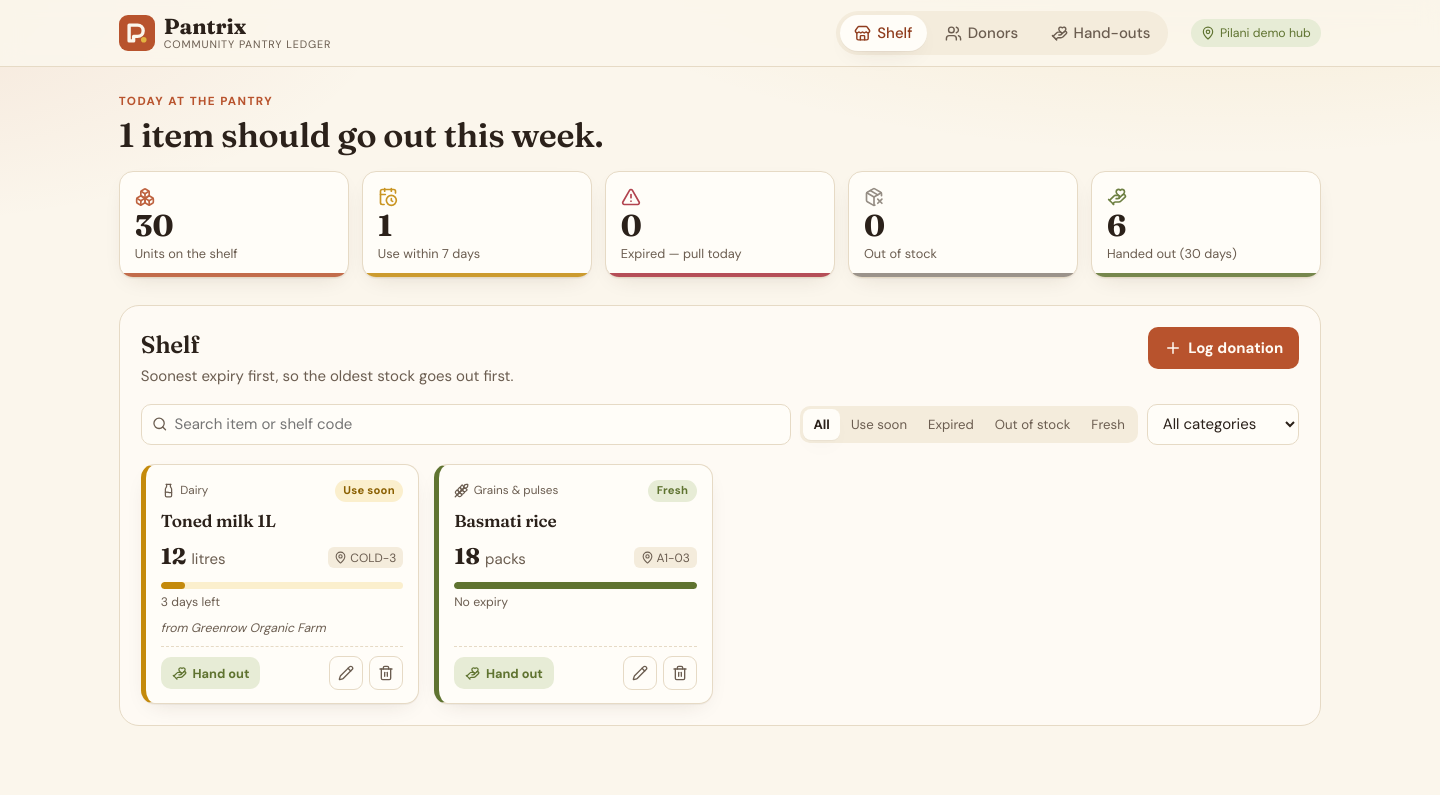
Test: Pantrix app › logs a donation through POST /api/items
Expected: the heading "Toned milk 1L" is shown, [161,510,276,531]
Click the button "Log donation" at (1224, 348), box [1148,327,1299,369]
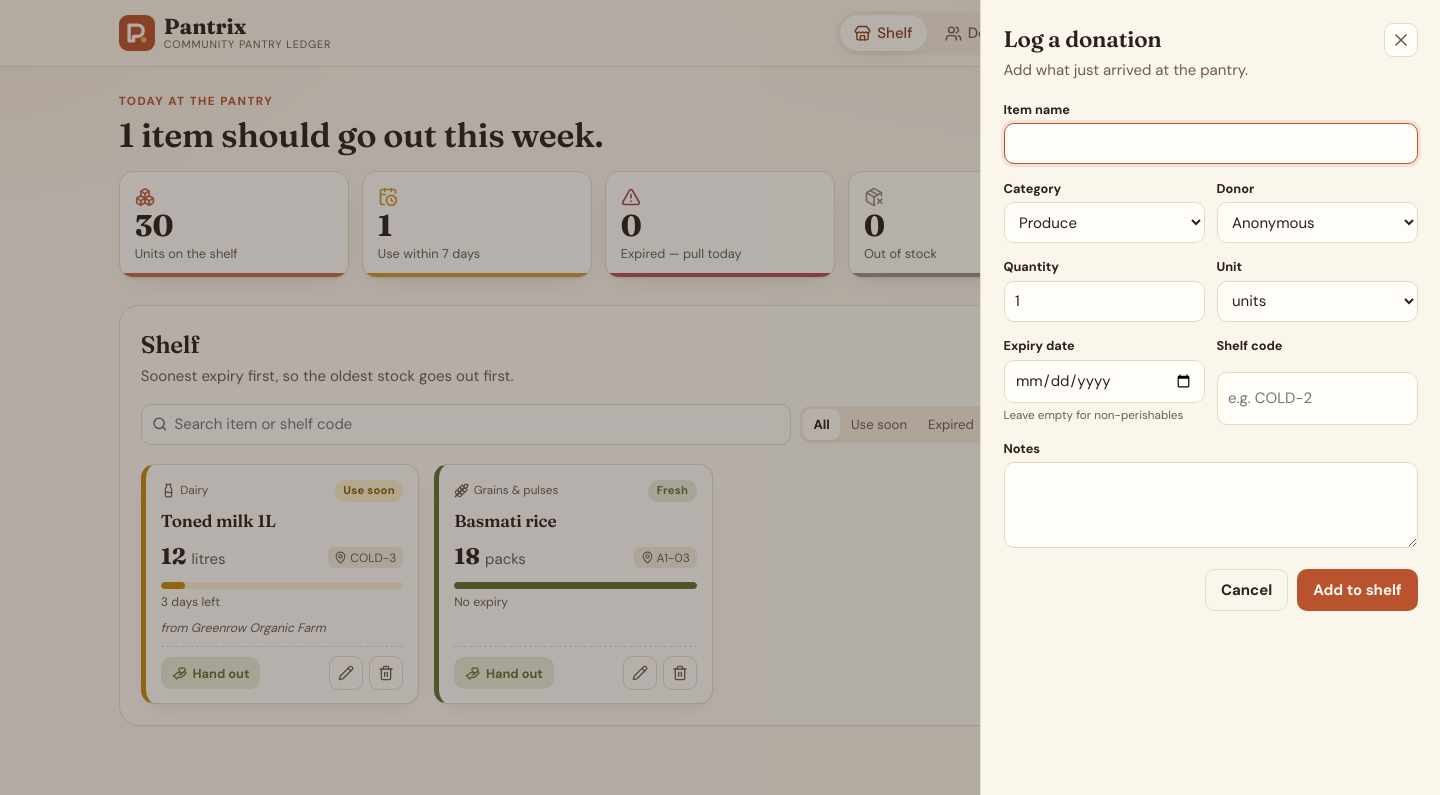
Type "Chickpeas (canned)" into the field labelled "Item name" at (1210, 144), box [1004,123,1418,164]
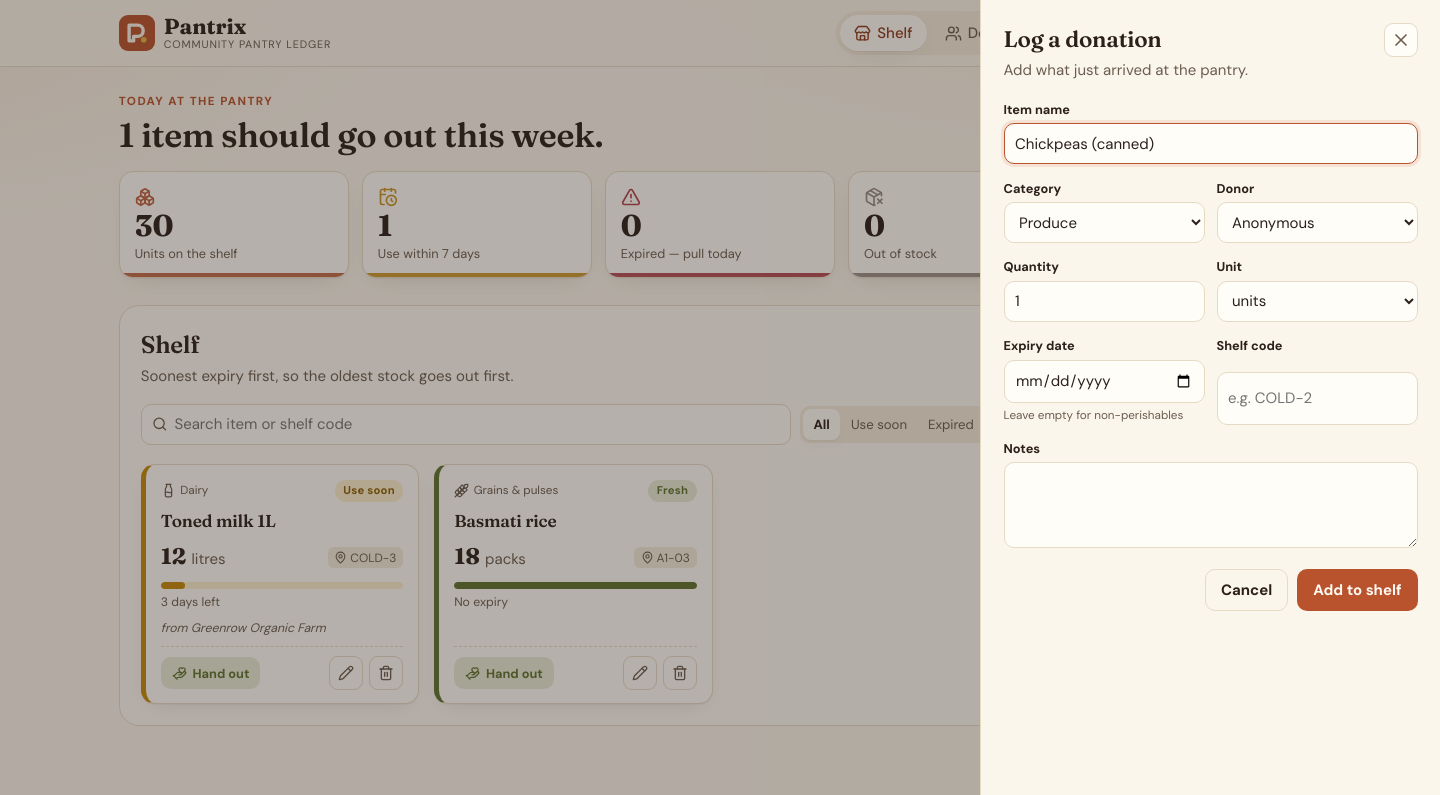
Click the button "Add to shelf" at (1357, 590), box [1297,569,1418,611]
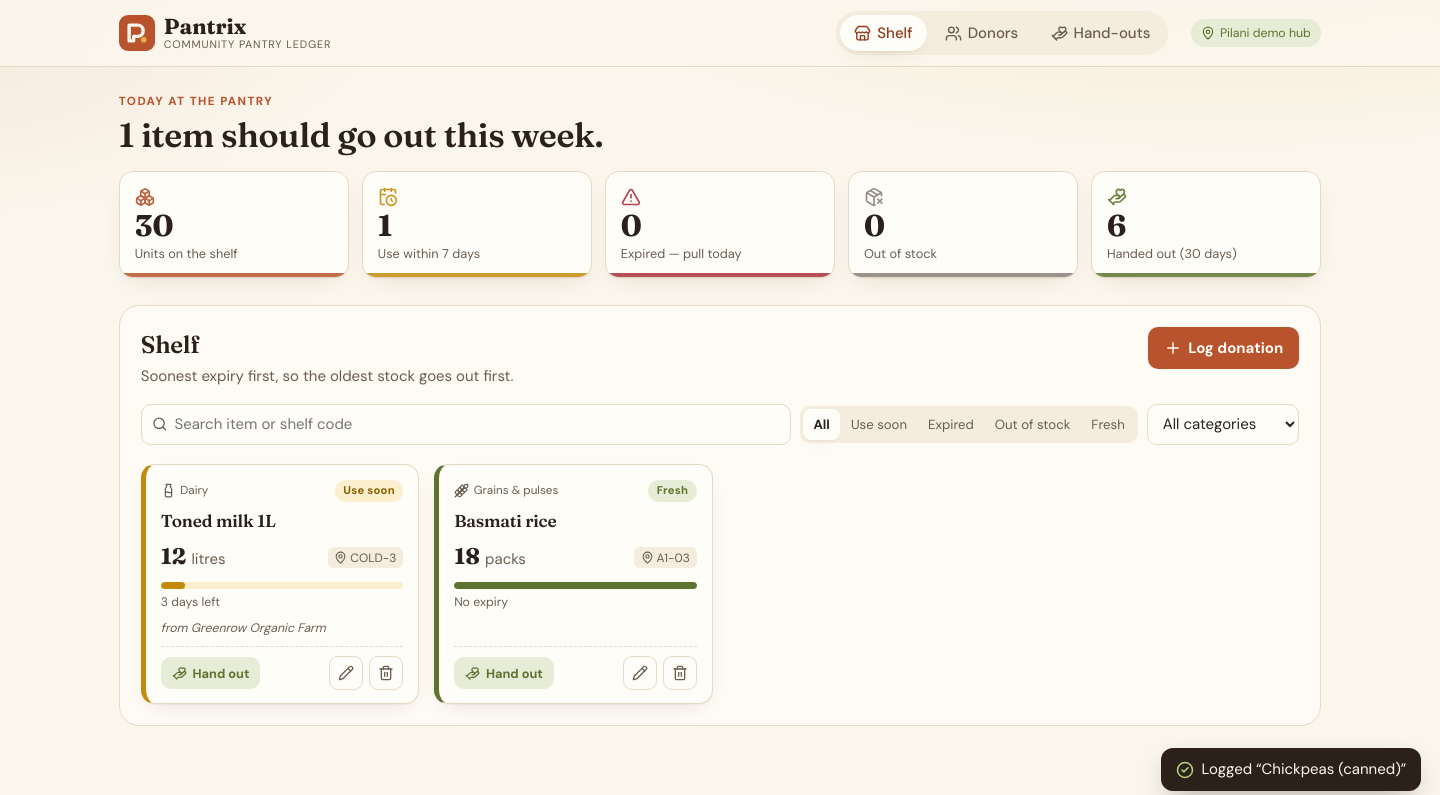
Expected: the text "Logged “Chickpeas (canned)”" is shown, [1161,748,1421,791]
